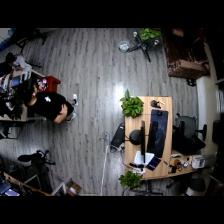normal: (19, 80, 80, 124), (5, 50, 33, 76)
